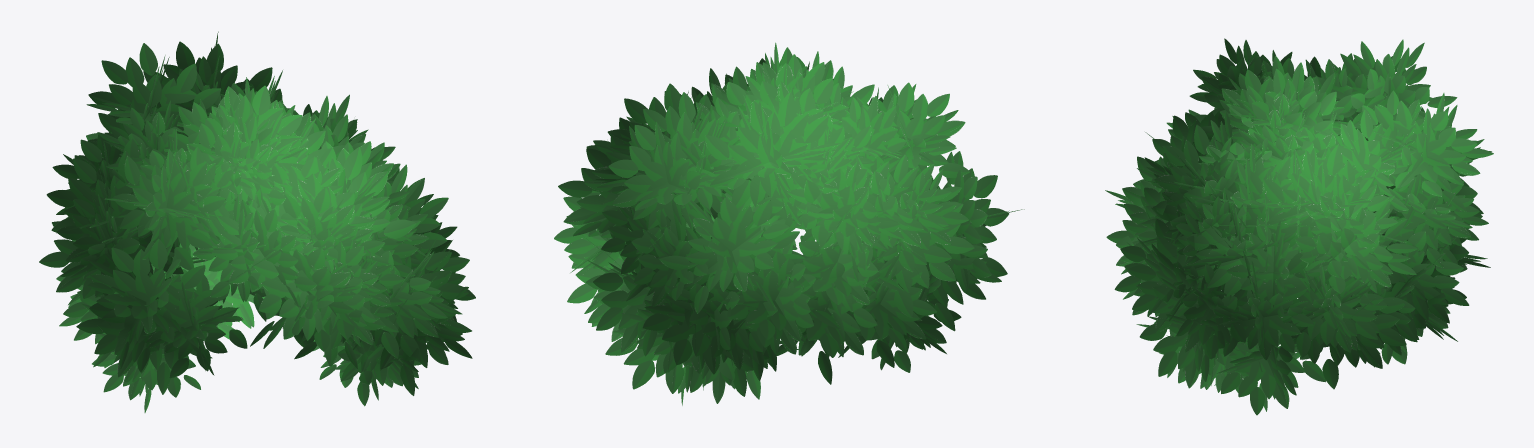
The model's file is leaves.fbx.
3 renders of one model, left to right at view 1: azimuth 30°, elevation 25°; view 2: azimuth 150°, elevation 25°; view 3: azimuth 270°, elevation 25°, orthographic. The views are drawn at different scales.
Visible parts, largest first — view 1: Plane.079; view 2: Plane.079; view 3: Plane.079.
Part boxes in pixels (x1,y1,x2,y2): Plane.079: (39,31,475,412); Plane.079: (554,42,1024,405); Plane.079: (1105,38,1493,415).
Bounding box in the file's own units: 778 × 632 × 748.
